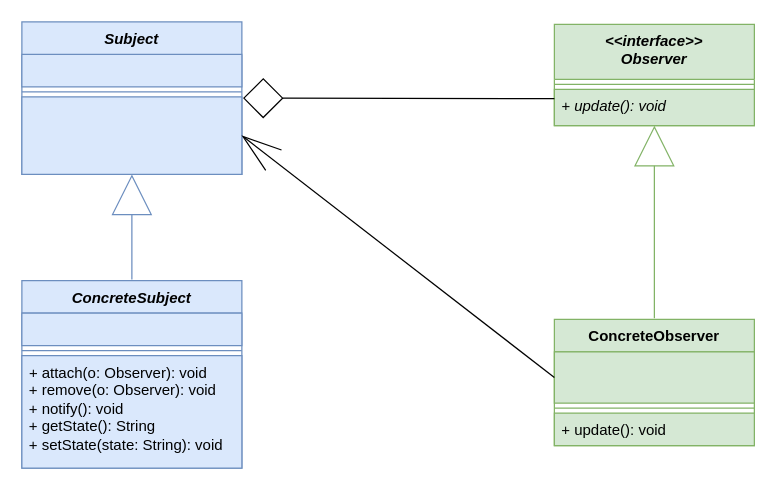
The diagram is 776 pixels wide and 494 high, and some of its shapes have lost their labels. Each missing label, with the centre of its shape:
+ attach(o: Observer): void + remove(o: Observer): void + notify(): void: the point at 131,135
+ observers: List<Observer>: the point at 131,70
+ observerState: String + subject: Subject: the point at 653,377
+ state: String: the point at 131,329
